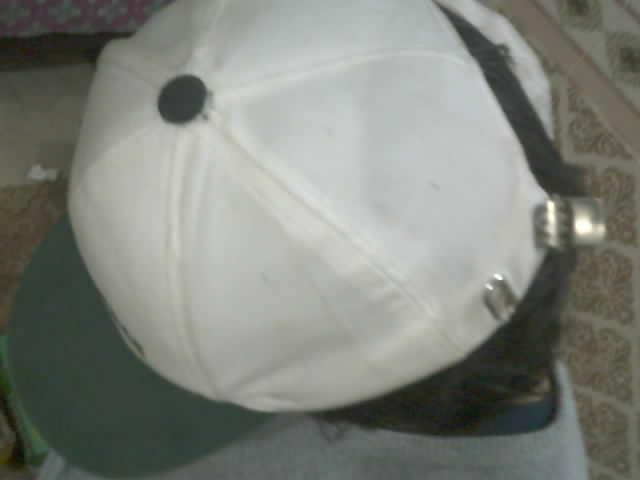cap: (5, 0, 605, 478)
